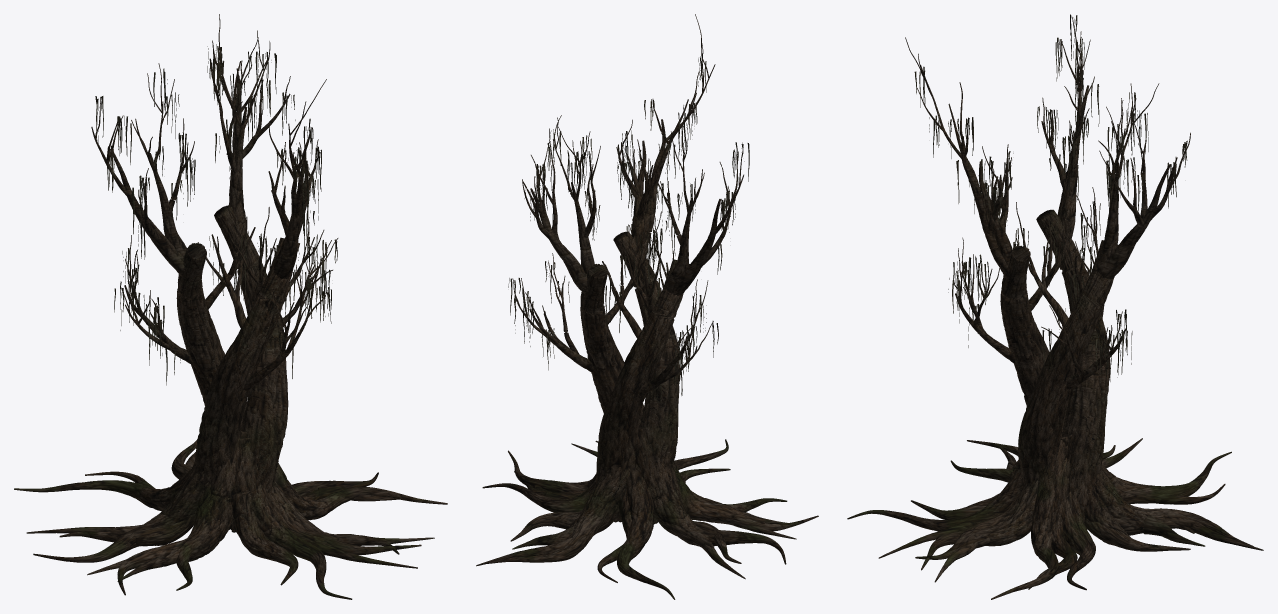
The model's file is dead-oak-textured-v03.glb.
The picture shows the model from 3 angles, left to right: view 1: azimuth 30°, elevation 25°; view 2: azimuth 150°, elevation 25°; view 3: azimuth 270°, elevation 25°; orthographic projection. The views are drawn at different scales.
Parts seen in each view (by area): view 1: Dead oak | gnarled trunk, roots, branches, moss; view 2: Dead oak | gnarled trunk, roots, branches, moss; view 3: Dead oak | gnarled trunk, roots, branches, moss.
Boxes of the visible parts, <box> form: Dead oak | gnarled trunk, roots, branches, moss: <box>14,14,447,599</box>; Dead oak | gnarled trunk, roots, branches, moss: <box>476,14,818,599</box>; Dead oak | gnarled trunk, roots, branches, moss: <box>847,14,1263,599</box>.
Size of the model in its own units: 6.03 by 8.09 by 6.16.
1 material, 1 textured.
